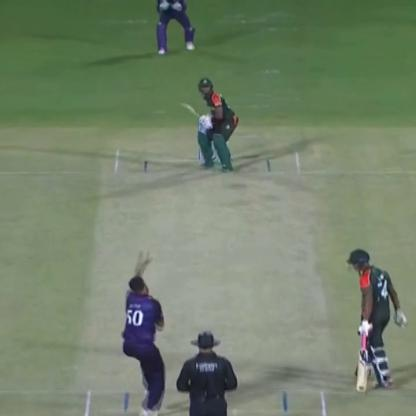bat: (166, 91, 211, 126)
pitch: (87, 145, 342, 416)
